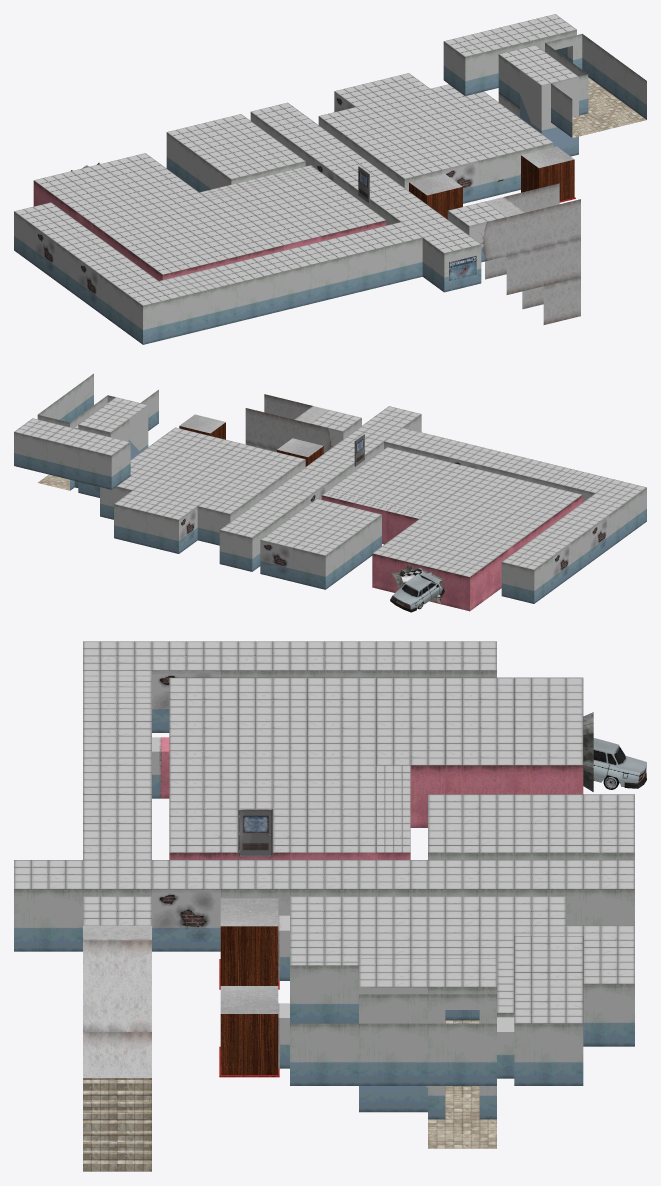
The picture shows the model from 3 angles, top to bottom: view 1: azimuth 30°, elevation 25°; view 2: azimuth 150°, elevation 25°; view 3: azimuth 270°, elevation 25°; orthographic projection. The views are drawn at different scales.
Visible parts, largest first — view 1: Elevator, Elevator.001, NormalWall.038, NormalWall.040, NormalWall.071, NormalWall.103, NormalWall.107, NormalWall.111, NormalWall, NormalWall.033, NormalWall.035, NormalWall.104 (+111 smaller); view 2: NormalWall.074, NormalWall.062, car, NormalWall.008, NormalWall.099, NormalWall.047, NormalWall.051, crackedWall.001, NormalWall.053, NormalWall.054, NormalWall.110, NormalWall.065 (+103 smaller); view 3: NormalWall.109, Floor.074, Elevator, Elevator.001, NormalWall.055, NormalWall.029, NormalWall.030, NormalWall.050, NormalWall.056, crackedWall.008, NormalWall.061, NormalWall.063 (+92 smaller).
Boxes of the visible parts, x1,y1,x2,y2 form: Elevator: [521, 146, 575, 202]; Elevator.001: [409, 173, 462, 219]; NormalWall.038: [273, 265, 310, 312]; NormalWall.040: [236, 274, 273, 321]; NormalWall.071: [143, 297, 180, 344]; NormalWall.103: [506, 208, 543, 255]; NormalWall.107: [543, 238, 580, 285]; NormalWall.111: [543, 199, 580, 246]; NormalWall: [479, 152, 516, 199]; NormalWall.033: [385, 238, 422, 285]; NormalWall.035: [348, 247, 385, 294]; NormalWall.104: [506, 247, 543, 294]; NormalWall.074: [372, 553, 469, 611]; NormalWall.062: [114, 504, 178, 553]; car: [390, 572, 443, 612]; NormalWall.008: [219, 530, 252, 571]; NormalWall.099: [501, 562, 534, 603]; NormalWall.047: [293, 548, 325, 589]; NormalWall.051: [46, 440, 78, 481]; crackedWall.001: [260, 540, 292, 581]; NormalWall.053: [79, 448, 111, 489]; NormalWall.054: [14, 432, 46, 473]; NormalWall.110: [245, 408, 277, 449]; NormalWall.065: [197, 506, 230, 545]; NormalWall.109: [83, 925, 151, 1077]; Floor.074: [83, 1080, 151, 1171]; Elevator: [219, 986, 279, 1077]; Elevator.001: [219, 898, 279, 989]; NormalWall.055: [514, 1023, 583, 1085]; NormalWall.029: [14, 889, 82, 951]; NormalWall.030: [359, 1023, 427, 1085]; NormalWall.050: [290, 1023, 358, 1085]; NormalWall.056: [428, 1023, 496, 1085]; crackedWall.008: [152, 889, 220, 951]; NormalWall.061: [290, 965, 358, 1023]; NormalWall.063: [583, 984, 634, 1046].
Bounding box in the file's own units: 6100 × 1600 × 3669.
